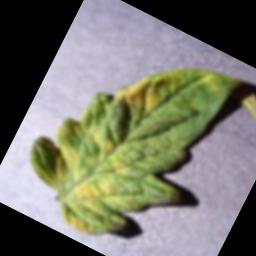Leaf_Mold: (14, 77, 159, 226), (111, 49, 192, 128), (59, 207, 101, 239)
